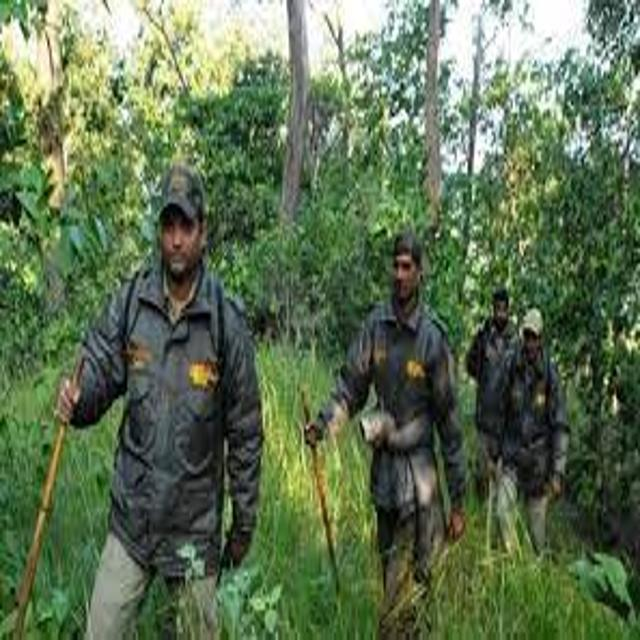ranger: (15, 142, 285, 639), (269, 210, 490, 640), (442, 245, 600, 596)
